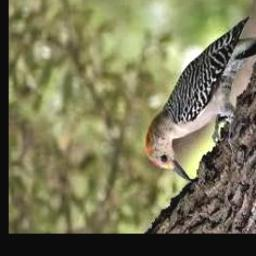Woodpecker: (145, 17, 256, 183)
